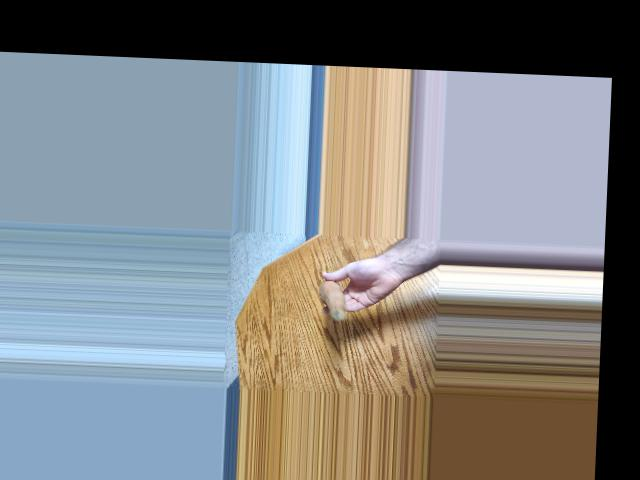sweet_potato: (322, 277, 350, 321)
